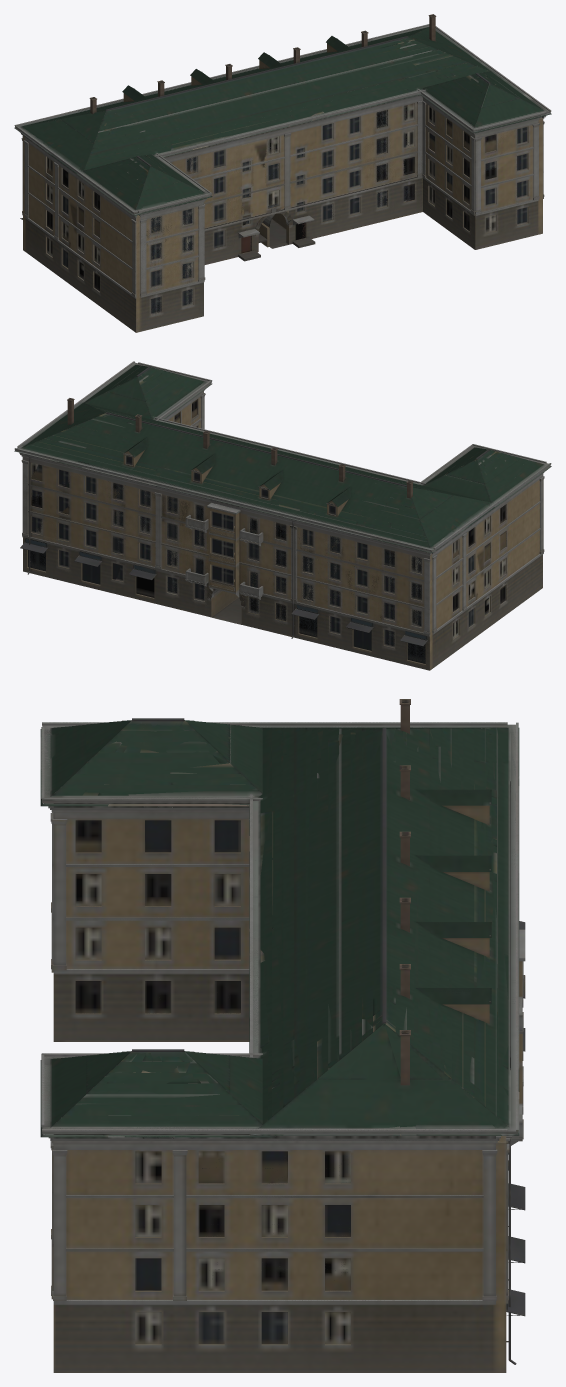
The model's file is bld_st4.glb.
3 renders of one model, top to bottom at view 1: azimuth 30°, elevation 25°; view 2: azimuth 150°, elevation 25°; view 3: azimuth 270°, elevation 25°, orthographic. The views are drawn at different scales.
Parts seen in each view (by area): view 1: st4_s0, st4_s1f, st4_s1g, st4_s2; view 2: st4_s0, st4_s1f, st4_s1g, st4_s2; view 3: st4_s0, st4_s1f, st4_s1g, st4_s2.
Part boxes in pixels (x1,y1,x2,y2): st4_s0: (14, 14, 551, 332); st4_s1f: (14, 14, 551, 332); st4_s1g: (21, 15, 549, 331); st4_s2: (24, 27, 518, 239); st4_s0: (14, 361, 551, 670); st4_s1f: (14, 362, 551, 670); st4_s1g: (17, 361, 549, 670); st4_s2: (21, 367, 529, 659); st4_s0: (40, 699, 525, 1372); st4_s1f: (40, 718, 525, 1364); st4_s1g: (41, 720, 525, 1364); st4_s2: (104, 699, 519, 1137).
Size of the model in its own units: 55.52 by 20.22 by 27.86.
Materials: 1 (1 with a texture image).
